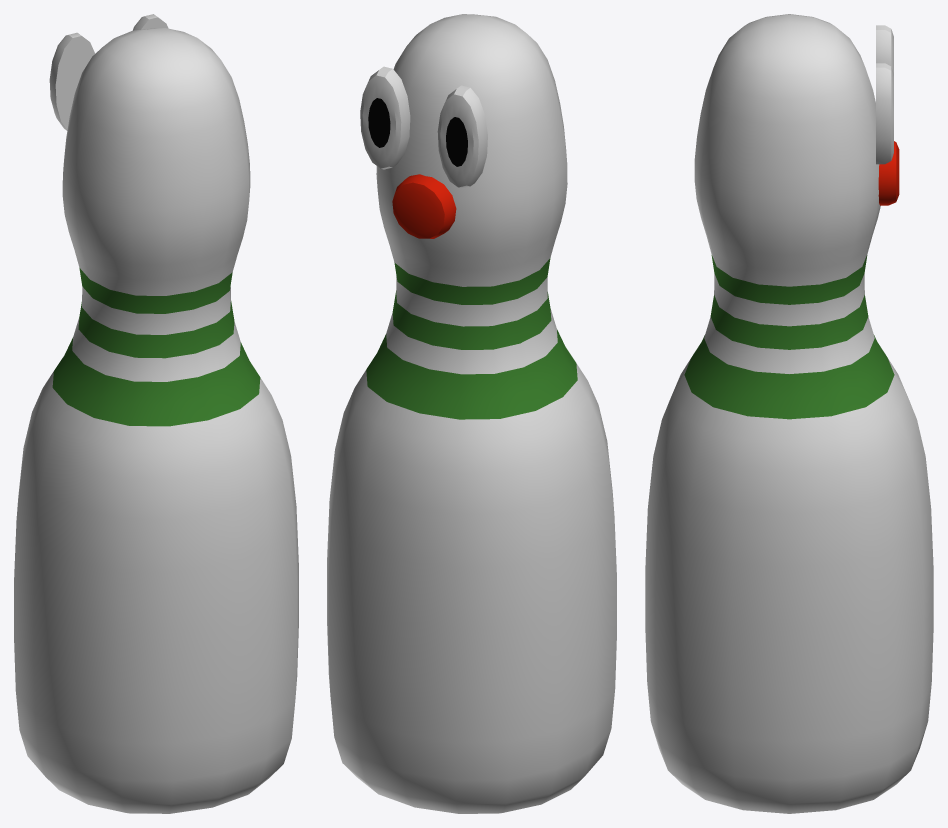
Rendered from PlayerPin.fbx.
The picture shows the model from 3 angles, left to right: view 1: azimuth 30°, elevation 25°; view 2: azimuth 150°, elevation 25°; view 3: azimuth 270°, elevation 25°; orthographic projection.
Parts seen in each view (by area): view 1: Cube.004; view 2: Cube.004; view 3: Cube.004.
Part boxes in pixels (left/top/right/bottom): Cube.004: left=14, top=14, right=298, bottom=813; Cube.004: left=327, top=14, right=616, bottom=813; Cube.004: left=645, top=14, right=933, bottom=813.
Size of the model in its own units: 211 by 613 by 211.
